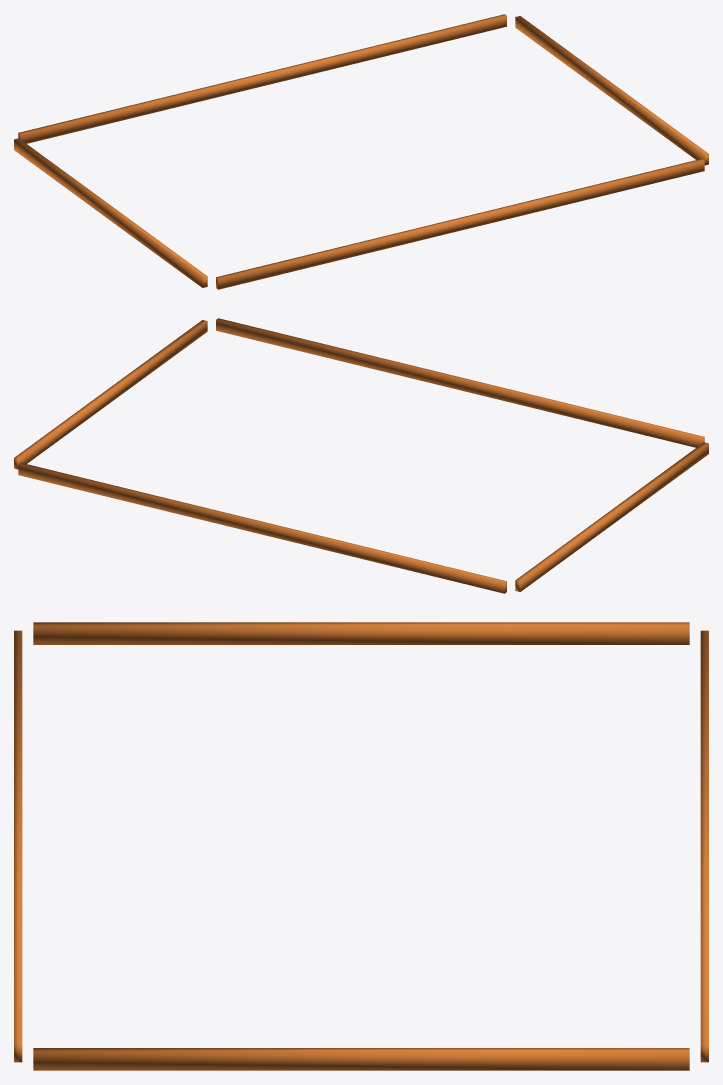
Rendered from 14_L94_CopperEdgeAndMountBosses.fbx.
The picture shows the model from 3 angles, top to bottom: view 1: azimuth 30°, elevation 25°; view 2: azimuth 150°, elevation 25°; view 3: azimuth 270°, elevation 25°; orthographic projection. The views are drawn at different scales.
Parts seen in each view (by area): view 1: L94_CopperEdgeAndMountBosses; view 2: L94_CopperEdgeAndMountBosses; view 3: L94_CopperEdgeAndMountBosses.
Boxes of the visible parts, box(x1,y1,x2,y2) form: L94_CopperEdgeAndMountBosses: box(14, 14, 708, 289); L94_CopperEdgeAndMountBosses: box(14, 318, 708, 593); L94_CopperEdgeAndMountBosses: box(14, 622, 708, 1070).
Size of the model in its own units: 133 by 2.7 by 91.1.
